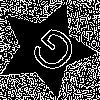G: (21, 23, 82, 84)
